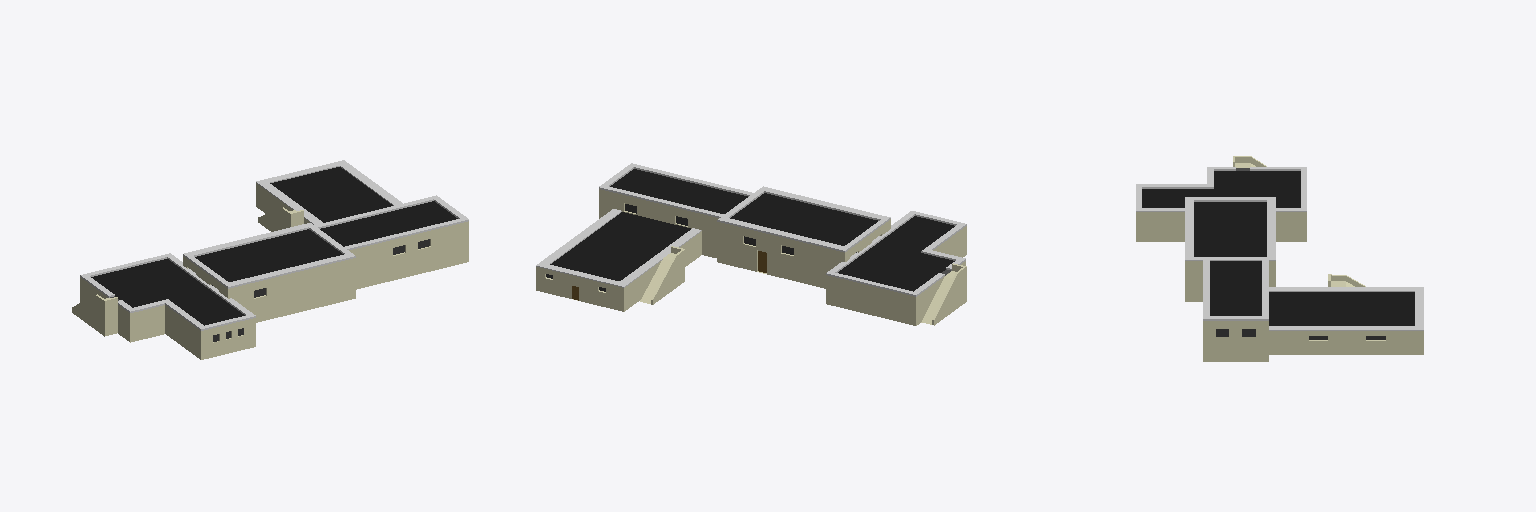
The model's file is house9.obj.
3 views of the same model, side by side, from view 1: azimuth 30°, elevation 25°; view 2: azimuth 150°, elevation 25°; view 3: azimuth 270°, elevation 25° (orthographic).
Visible parts, largest first — view 1: unnamed_object1; view 2: unnamed_object1; view 3: unnamed_object1.
Part boxes in pixels (x1,y1,x2,y2): unnamed_object1: (72, 160, 468, 359); unnamed_object1: (536, 163, 966, 325); unnamed_object1: (1136, 156, 1423, 361).
Bounding box in the file's own units: 29.82 × 3.59 × 21.26.